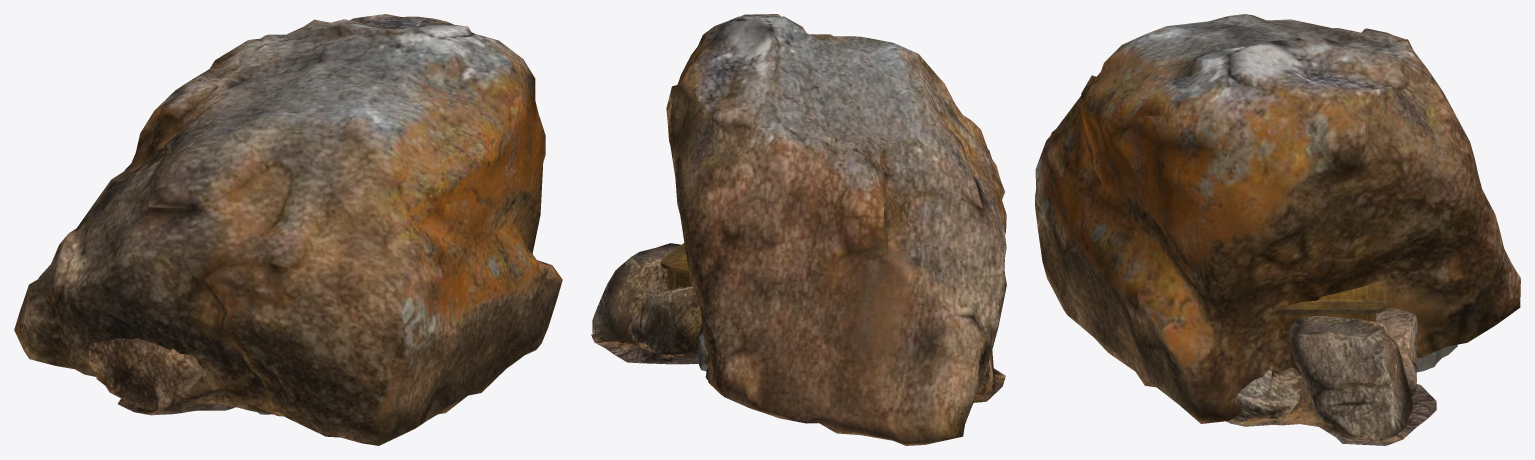
The model's file is af-props.glb.
The picture shows the model from 3 angles, left to right: view 1: azimuth 30°, elevation 25°; view 2: azimuth 150°, elevation 25°; view 3: azimuth 270°, elevation 25°; orthographic projection. The views are drawn at different scales.
Parts seen in each view (by area): view 1: boulder_04, boulder_02; view 2: boulder_04, boulder_02, WoodenTable_01; view 3: boulder_04, boulder_02, WoodenTable_01, stone_fire_pit.
Boxes of the visible parts, x1,y1,x2,y2 form: boulder_04: (14, 14, 562, 445); boulder_02: (89, 338, 235, 415); boulder_04: (666, 14, 1006, 445); boulder_02: (591, 243, 1005, 402); WoodenTable_01: (661, 243, 692, 290); boulder_04: (1035, 14, 1520, 423); boulder_02: (1226, 308, 1436, 445); WoodenTable_01: (1276, 281, 1385, 331); stone_fire_pit: (1416, 344, 1457, 372).
Size of the model in its own units: 2.68 by 2.05 by 2.47.
Materials: 20 (20 with a texture image).
